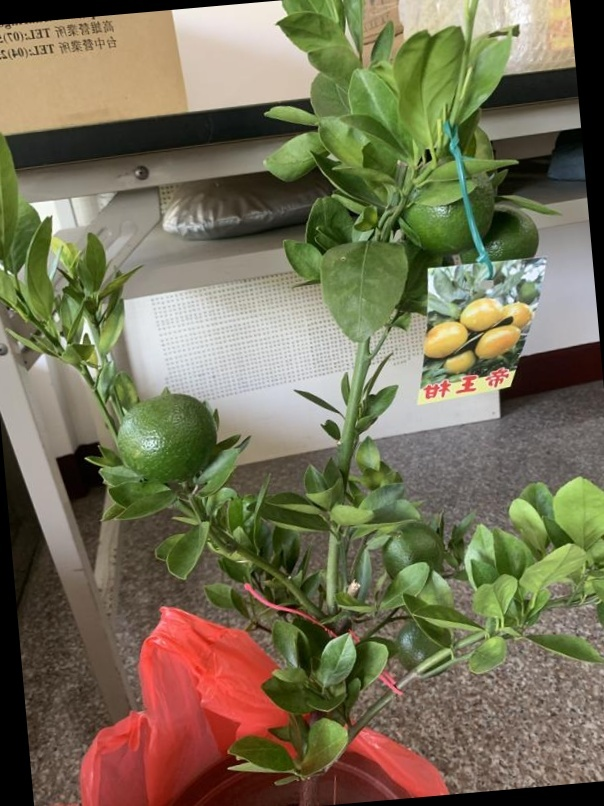Tangerine: (115, 387, 218, 481)
